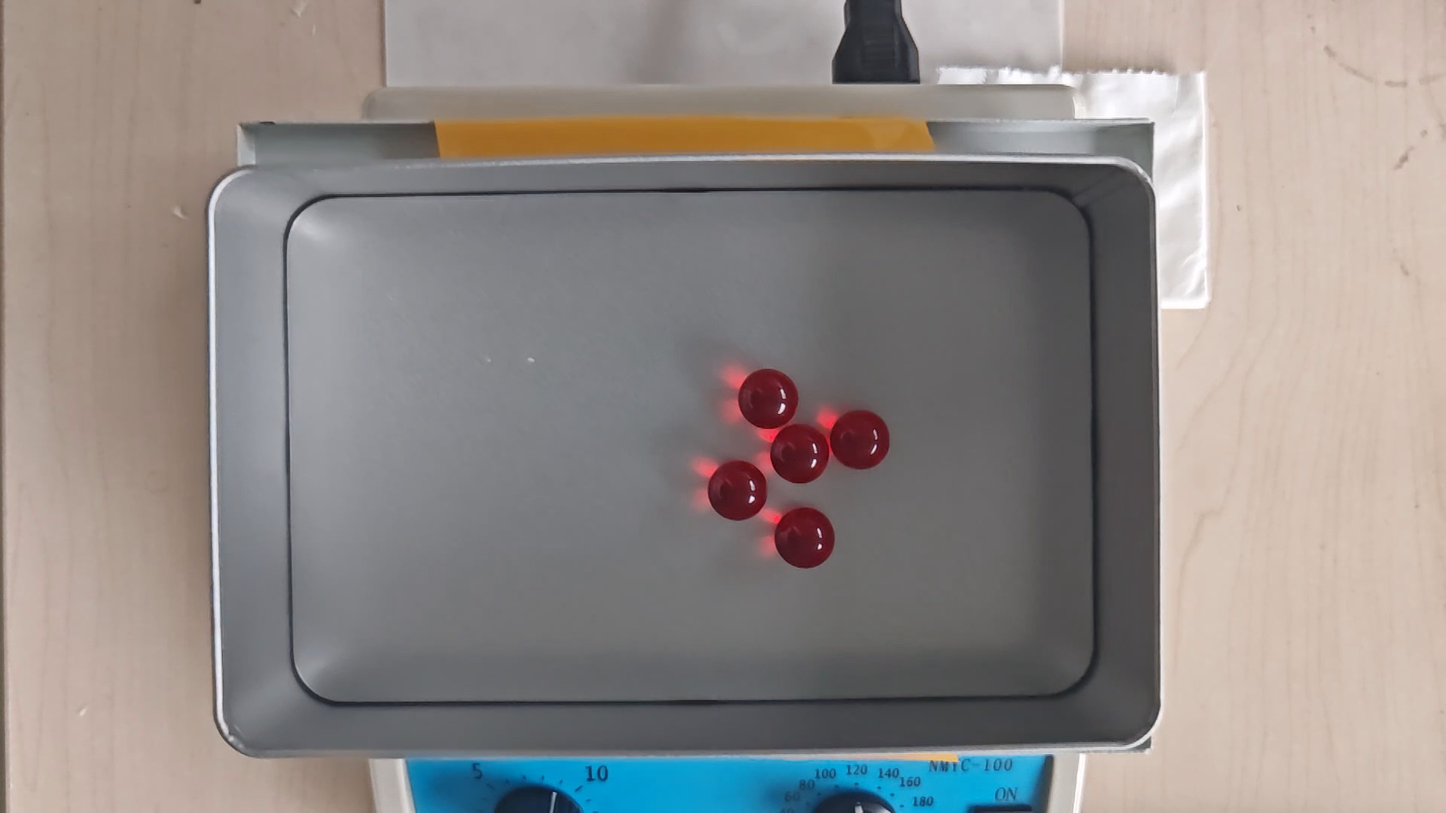ball: (775, 507, 836, 568), (739, 370, 798, 429), (831, 411, 891, 469), (710, 461, 767, 522), (770, 425, 829, 481)
container: (283, 190, 1097, 703)
